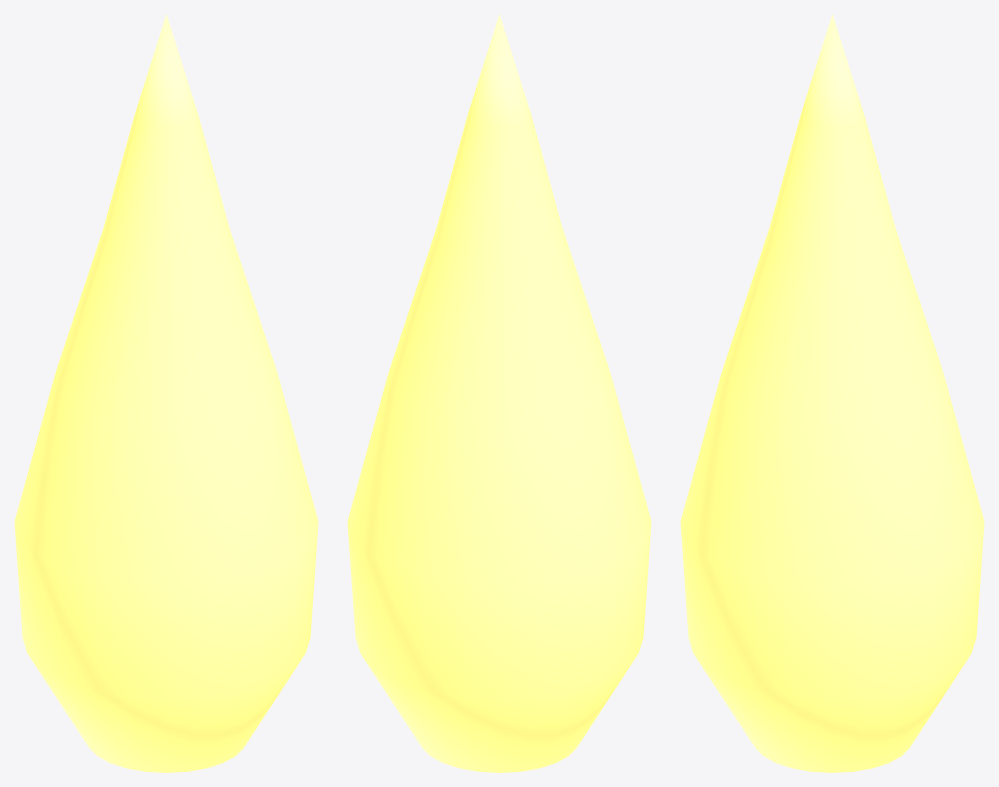
Rendered from flame.glb.
The picture shows the model from 3 angles, left to right: view 1: azimuth 30°, elevation 25°; view 2: azimuth 150°, elevation 25°; view 3: azimuth 270°, elevation 25°; orthographic projection.
Parts seen in each view (by area): view 1: chama; view 2: chama; view 3: chama.
Boxes of the visible parts, box(x1,y1,x2,y2) form: chama: box(14, 14, 318, 772); chama: box(347, 14, 651, 772); chama: box(680, 14, 984, 772).
Bounding box in the file's own units: 0.19 × 0.52 × 0.19.
